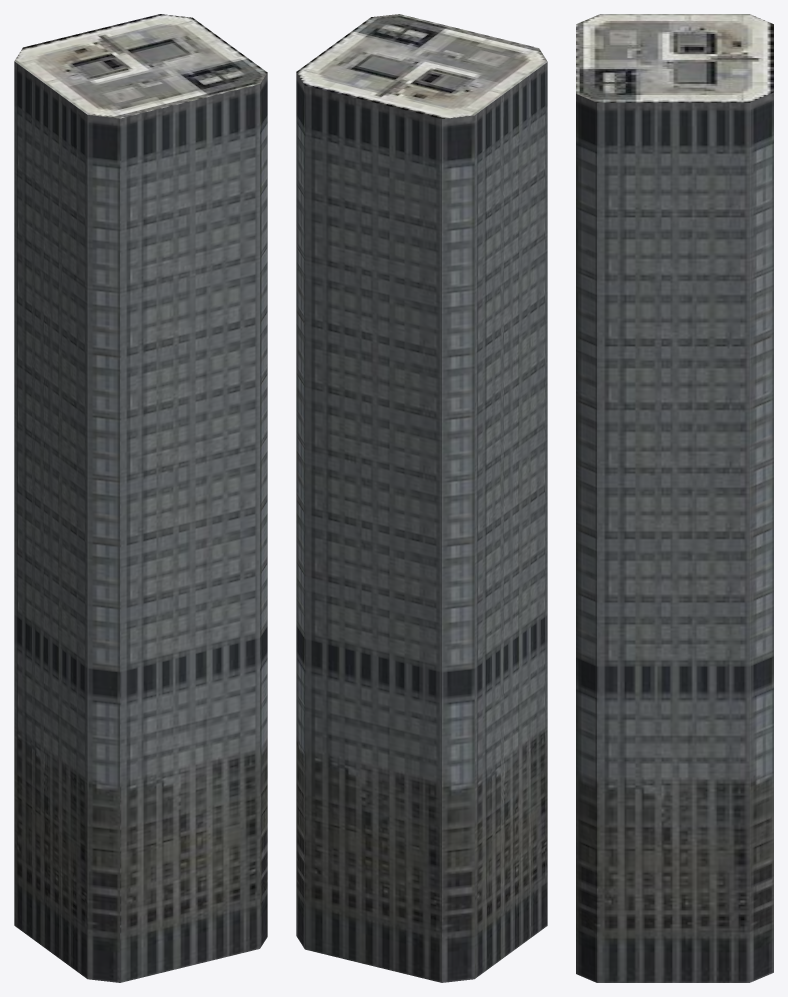
The picture shows the model from 3 angles, left to right: view 1: azimuth 30°, elevation 25°; view 2: azimuth 150°, elevation 25°; view 3: azimuth 270°, elevation 25°; orthographic projection.
Parts seen in each view (by area): view 1: b178; view 2: b178; view 3: b178.
Boxes of the visible parts, x1,y1,x2,y2 form: b178: (14,14,267,982); b178: (296,14,547,982); b178: (576,14,773,982).
Bounding box in the file's own units: 36.98 × 171 × 34.87.
Materials: 1 (1 with a texture image).
